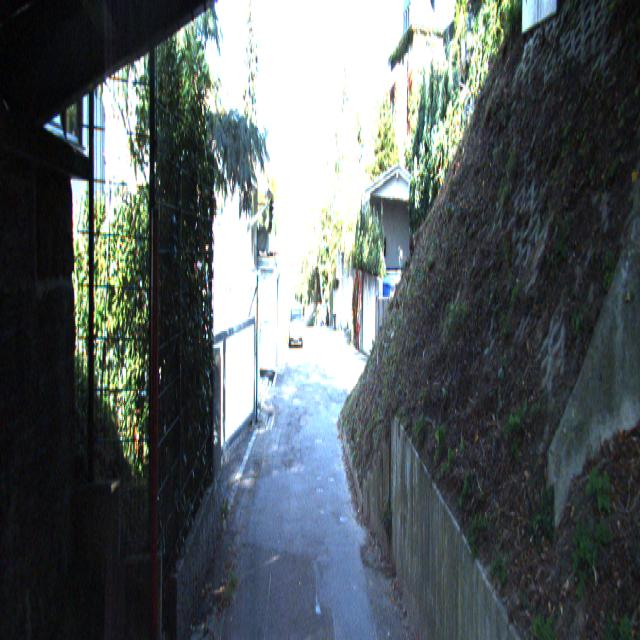Car: (288, 305, 304, 350)
